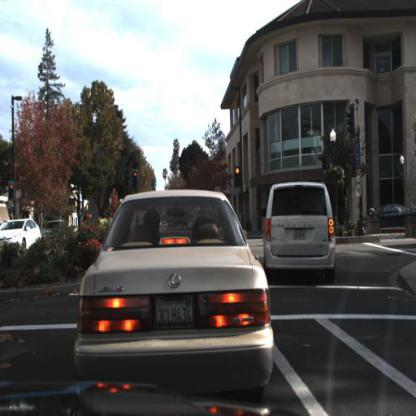car: (80, 187, 268, 385), (263, 181, 336, 279), (361, 199, 414, 233), (1, 217, 43, 253), (1, 221, 30, 248)
trafficLight-Red: (234, 166, 242, 189), (8, 181, 16, 201), (131, 170, 139, 189)
